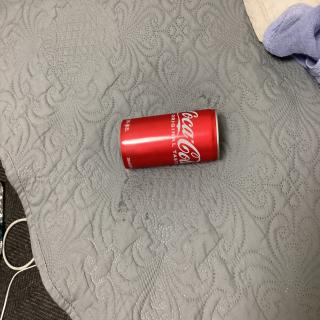cocacola: (117, 106, 229, 170)
